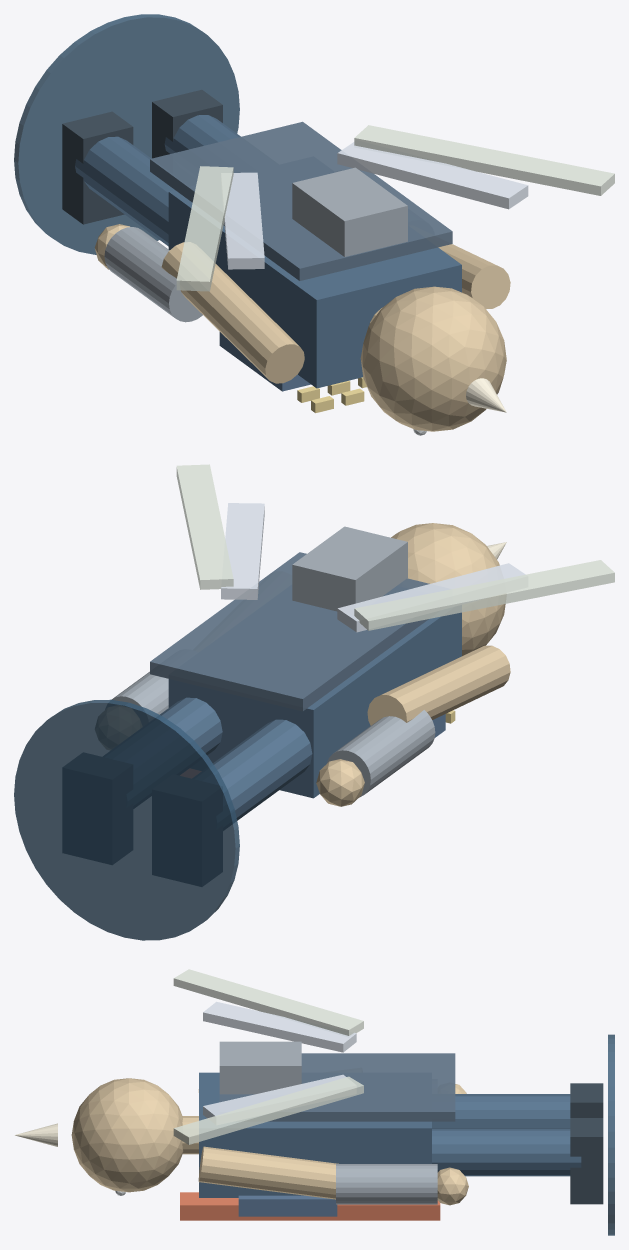
File: SW_NPC_041_renn_aethermark.glb
3 views of the same model, one above another, from view 1: azimuth 30°, elevation 25°; view 2: azimuth 150°, elevation 25°; view 3: azimuth 270°, elevation 25° (orthographic). The views are drawn at different scales.
Parts seen in each view (by area): view 1: round_base_plate, head, torso_uniform, storm_cloak, wingpack_core, left_upper_arm, right_feather_wing, left_leg, right_wing_rig, left_feather_wing, left_forearm_gauntlet, left_boot (+6 smaller); view 2: round_base_plate, storm_cloak, torso_uniform, wingpack_core, left_feather_wing, head, left_upper_arm, left_leg, right_feather_wing, left_forearm_gauntlet, right_wing_rig, left_wing_rig (+3 smaller); view 3: head, torso_uniform, storm_cloak, right_leg, right_upper_arm, left_leg, wingpack_core, right_forearm_gauntlet, right_feather_wing, left_feather_wing, rank_sash, left_wing_rig (+7 smaller).
Boxes of the visible parts, x1=… form: round_base_plate: x1=14, y1=14, x2=239, y2=254; head: x1=360, y1=286, x2=506, y2=431; torso_uniform: x1=168, y1=190, x2=461, y2=388; storm_cloak: x1=150, y1=121, x2=452, y2=280; wingpack_core: x1=292, y1=167, x2=407, y2=256; left_upper_arm: x1=161, y1=242, x2=304, y2=383; right_feather_wing: x1=354, y1=125, x2=614, y2=195; left_leg: x1=75, y1=136, x2=174, y2=246; right_wing_rig: x1=337, y1=142, x2=528, y2=209; left_feather_wing: x1=176, y1=166, x2=233, y2=291; left_forearm_gauntlet: x1=104, y1=227, x2=202, y2=322; left_boot: x1=62, y1=111, x2=133, y2=224; round_base_plate: x1=14, y1=699, x2=239, y2=940; storm_cloak: x1=150, y1=552, x2=429, y2=711; torso_uniform: x1=168, y1=612, x2=461, y2=798; wingpack_core: x1=292, y1=526, x2=407, y2=611; left_feather_wing: x1=354, y1=560, x2=614, y2=630; head: x1=391, y1=523, x2=505, y2=655; left_upper_arm: x1=367, y1=645, x2=510, y2=725; left_leg: x1=213, y1=719, x2=312, y2=820; right_feather_wing: x1=176, y1=464, x2=233, y2=589; left_forearm_gauntlet: x1=326, y1=710, x2=435, y2=797; right_wing_rig: x1=221, y1=503, x2=264, y2=599; left_wing_rig: x1=337, y1=563, x2=525, y2=632; head: x1=71, y1=1078, x2=183, y2=1192; torso_uniform: x1=199, y1=1072, x2=431, y2=1197; storm_cloak: x1=219, y1=1053, x2=455, y2=1121; right_leg: x1=432, y1=1128, x2=581, y2=1176; right_upper_arm: x1=198, y1=1146, x2=338, y2=1199; left_leg: x1=432, y1=1094, x2=570, y2=1128; wingpack_core: x1=219, y1=1041, x2=301, y2=1094; right_forearm_gauntlet: x1=336, y1=1164, x2=437, y2=1204; right_feather_wing: x1=173, y1=1076, x2=363, y2=1144; left_feather_wing: x1=173, y1=969, x2=363, y2=1035; rank_sash: x1=180, y1=1192, x2=440, y2=1220; left_wing_rig: x1=203, y1=1001, x2=356, y2=1052.
Bounding box in the file's own units: 1.5 × 0.756 × 2.26.
